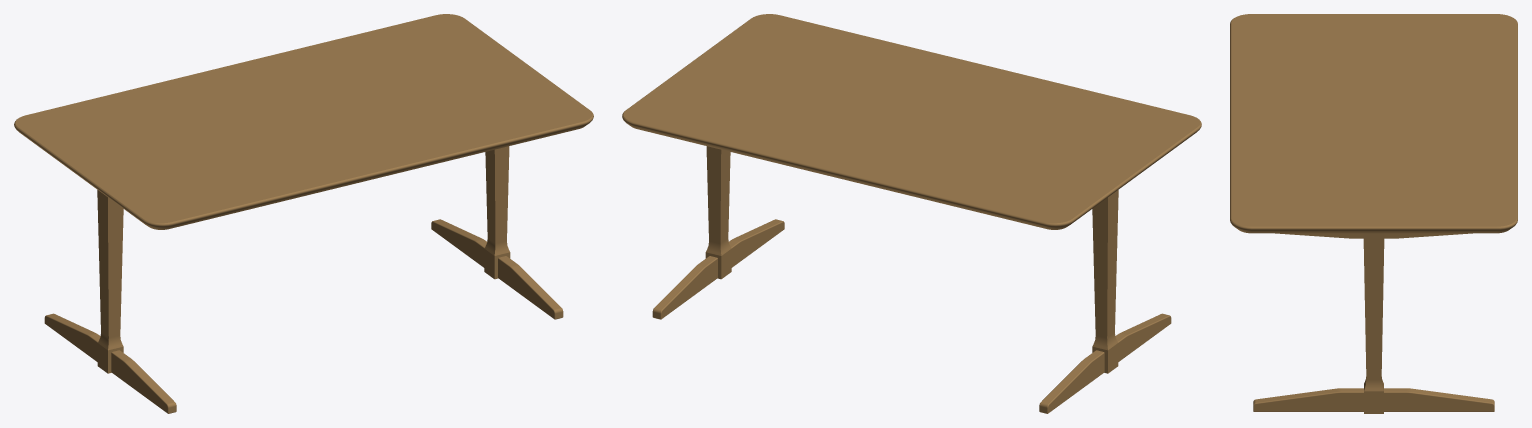
Rendered from 551_ダイニングテーブル4人掛け.glb.
3 views of the same model, side by side, from view 1: azimuth 30°, elevation 25°; view 2: azimuth 150°, elevation 25°; view 3: azimuth 270°, elevation 25° (orthographic). The views are drawn at different scales.
Visible parts, largest first — view 1: Body; view 2: Body; view 3: Body.
Part boxes in pixels (x1,y1,x2,y2): Body: (14, 14, 593, 413); Body: (622, 14, 1201, 413); Body: (1230, 14, 1517, 413).
Bounding box in the file's own units: 1.51 × 0.65 × 0.8581.
